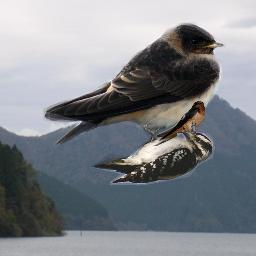Swallow: (43, 22, 226, 147), (150, 101, 205, 146)
Woodpecker: (90, 127, 221, 188)
